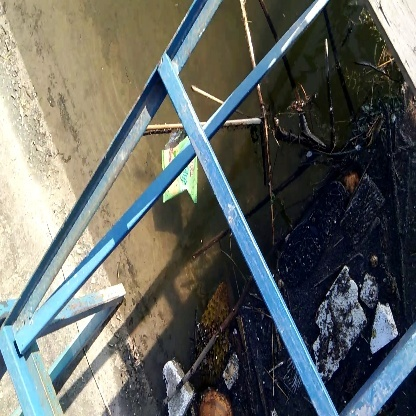plastic-garbage: (314, 265, 365, 376)
